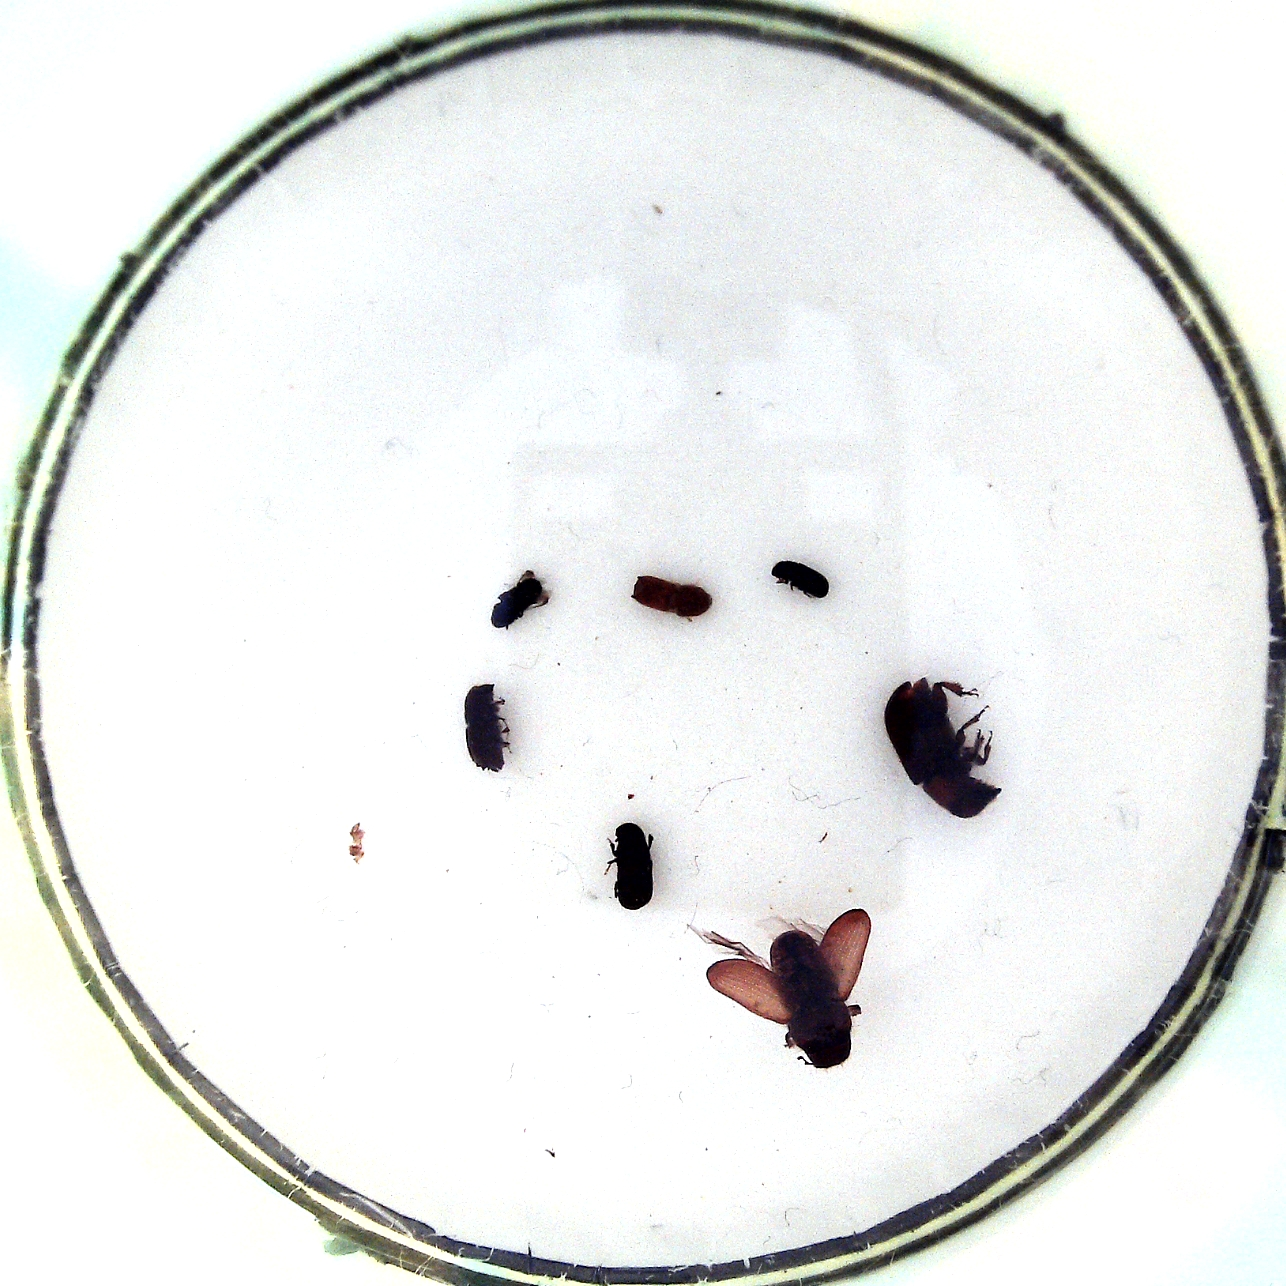Leconte: (692, 909, 884, 1073), (884, 668, 1007, 831)
Linnaeus: (459, 682, 521, 782)
acuminatus: (628, 566, 717, 624)
armandi: (603, 816, 661, 919)
coleoptera: (488, 568, 553, 636), (767, 550, 836, 604)
